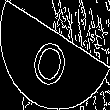O_NE: (31, 23, 79, 87)
